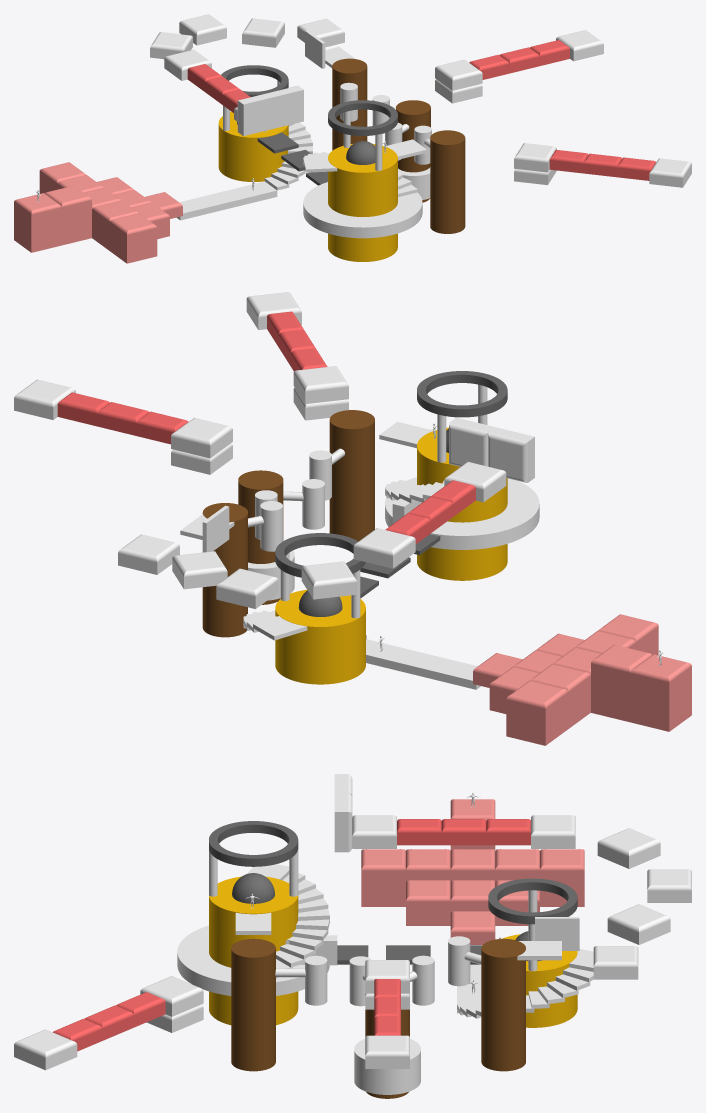
The model's file is Level01.fbx.
3 views of the same model, one above another, from view 1: azimuth 30°, elevation 25°; view 2: azimuth 150°, elevation 25°; view 3: azimuth 270°, elevation 25° (orthographic). The views are drawn at different scales.
Visible parts, largest first — view 1: Layer 03, Layer 01, Layer 02, Object 47, Object 116, Object 85, Object 114, Object 115, Object 101, Object 91, Object 103, Object 89 (+24 smaller); view 2: Layer 03, Layer 01, Layer 02, Object 47, Object 116, Object 85, Object 114, Object 92, Object 91, Object 101, Object 115, Object 88 (+24 smaller); view 3: Layer 03, Layer 02, Layer 01, Object 47, Object 85, Object 84, Object 83, Object 89, Object 103, Object 90, Object 88, Object 96 (+27 smaller).
Part boxes in pixels (box(x1,y1,x2,y2)): Layer 03: box(14, 162, 182, 263); Layer 01: box(218, 111, 397, 261); Layer 02: box(332, 58, 465, 233); Object 47: box(303, 182, 422, 238); Object 116: box(176, 181, 277, 220); Object 85: box(328, 100, 397, 135); Object 114: box(237, 93, 273, 136); Object 115: box(268, 85, 303, 128); Object 101: box(435, 59, 482, 90); Object 91: box(179, 14, 226, 45); Object 103: box(649, 158, 691, 187); Object 89: box(242, 18, 284, 47); Layer 03: box(473, 614, 691, 745); Layer 01: box(275, 427, 507, 684); Layer 02: box(202, 410, 374, 637); Object 47: box(385, 477, 539, 549); Object 116: box(366, 639, 480, 689); Object 85: box(417, 371, 507, 417); Object 114: box(488, 427, 534, 482); Object 92: box(353, 528, 415, 568); Object 91: box(216, 568, 278, 608); Object 101: box(171, 418, 232, 458); Object 115: box(449, 417, 495, 466); Object 88: box(118, 534, 179, 574); Layer 03: box(361, 799, 584, 944); Layer 02: box(231, 938, 525, 1098); Layer 01: box(209, 876, 577, 1027); Object 47: box(177, 925, 329, 995); Object 85: box(209, 821, 298, 866); Object 84: box(488, 878, 577, 924); Object 83: box(354, 1039, 420, 1094); Object 89: box(607, 904, 670, 944); Object 103: box(14, 1029, 77, 1070); Object 90: box(597, 828, 660, 868); Object 88: box(593, 946, 638, 979); Object 96: box(352, 815, 396, 848).
Size of the model in its own units: 89 by 75.87 by 24.25.
